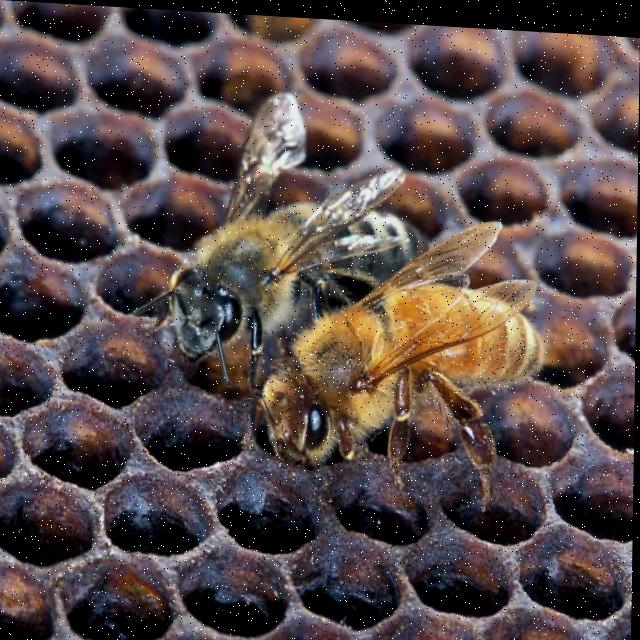Apis-mellifera-scutellata: (254, 201, 560, 517), (138, 76, 439, 370)
